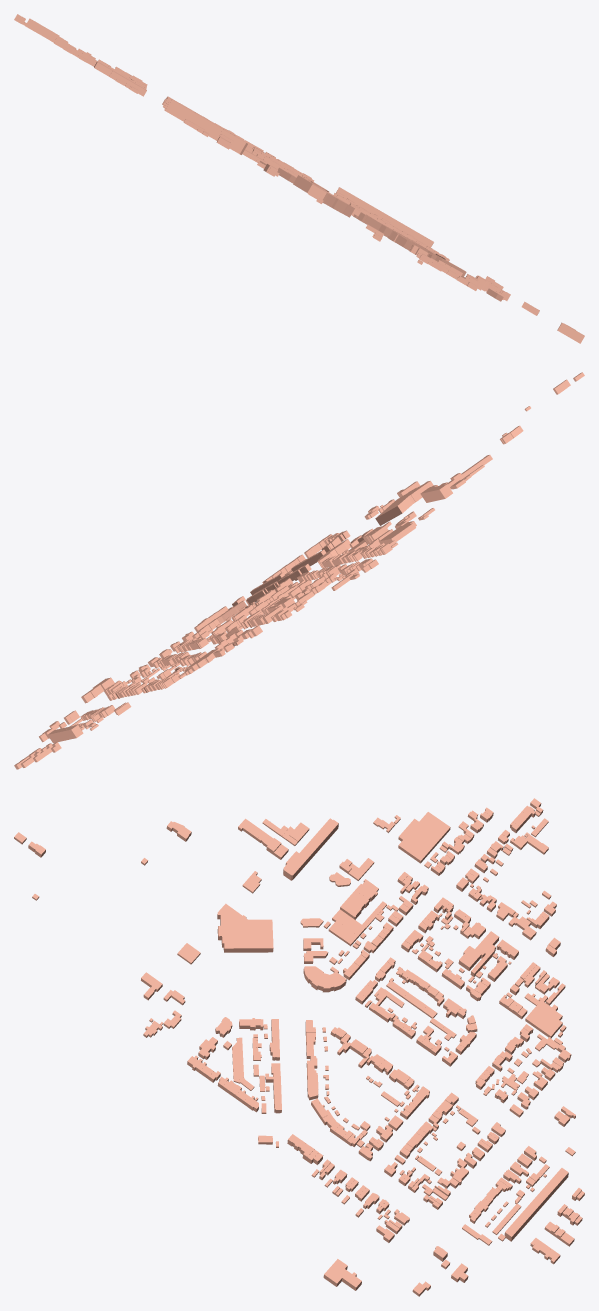
3 renders of one model, top to bottom at view 1: azimuth 30°, elevation 25°; view 2: azimuth 150°, elevation 25°; view 3: azimuth 270°, elevation 25°, orthographic. The views are drawn at different scales.
Bounding box in the file's own units: 508 × 384 × 640.
